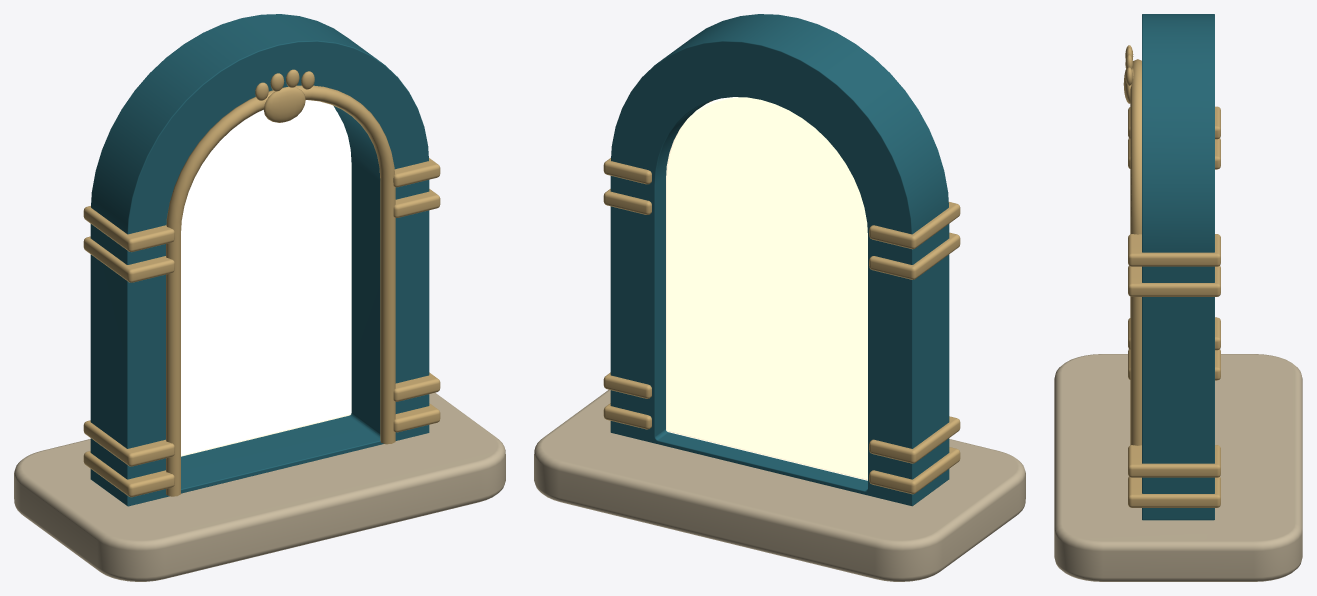
File: echo_time_gate_atelier.glb
The picture shows the model from 3 angles, left to right: view 1: azimuth 30°, elevation 25°; view 2: azimuth 150°, elevation 25°; view 3: azimuth 270°, elevation 25°; orthographic projection.
Visible parts, largest first — view 1: echo_time_gate_atelier__Painted_echo_time_gate_atelier_Glaze, echo_time_gate_atelier__Painted_echo_time_gate_atelier_Glow, echo_time_gate_atelier__TaggedPainted_echo_time_gate_atelier, echo_time_gate_atelier__Painted_echo_time_gate_atelier_Metal; view 2: echo_time_gate_atelier__Painted_echo_time_gate_atelier_Glaze, echo_time_gate_atelier__Painted_echo_time_gate_atelier_Glow, echo_time_gate_atelier__TaggedPainted_echo_time_gate_atelier, echo_time_gate_atelier__Painted_echo_time_gate_atelier_Metal; view 3: echo_time_gate_atelier__TaggedPainted_echo_time_gate_atelier, echo_time_gate_atelier__Painted_echo_time_gate_atelier_Glaze, echo_time_gate_atelier__Painted_echo_time_gate_atelier_Metal.
Boxes of the visible parts, left/top/right/bottom form: echo_time_gate_atelier__Painted_echo_time_gate_atelier_Glaze: left=90, top=14, right=429, bottom=506; echo_time_gate_atelier__Painted_echo_time_gate_atelier_Glow: left=181, top=100, right=351, bottom=456; echo_time_gate_atelier__TaggedPainted_echo_time_gate_atelier: left=14, top=393, right=505, bottom=581; echo_time_gate_atelier__Painted_echo_time_gate_atelier_Metal: left=83, top=69, right=440, bottom=497; echo_time_gate_atelier__Painted_echo_time_gate_atelier_Glaze: left=610, top=14, right=949, bottom=506; echo_time_gate_atelier__Painted_echo_time_gate_atelier_Glow: left=666, top=97, right=867, bottom=480; echo_time_gate_atelier__TaggedPainted_echo_time_gate_atelier: left=534, top=390, right=1025, bottom=581; echo_time_gate_atelier__Painted_echo_time_gate_atelier_Metal: left=603, top=100, right=960, bottom=494; echo_time_gate_atelier__TaggedPainted_echo_time_gate_atelier: left=1054, top=354, right=1302, bottom=581; echo_time_gate_atelier__Painted_echo_time_gate_atelier_Glaze: left=1142, top=14, right=1214, bottom=520; echo_time_gate_atelier__Painted_echo_time_gate_atelier_Metal: left=1123, top=45, right=1220, bottom=507.
Bounding box in the file's own units: 2.06 × 2.28 × 1.12.
